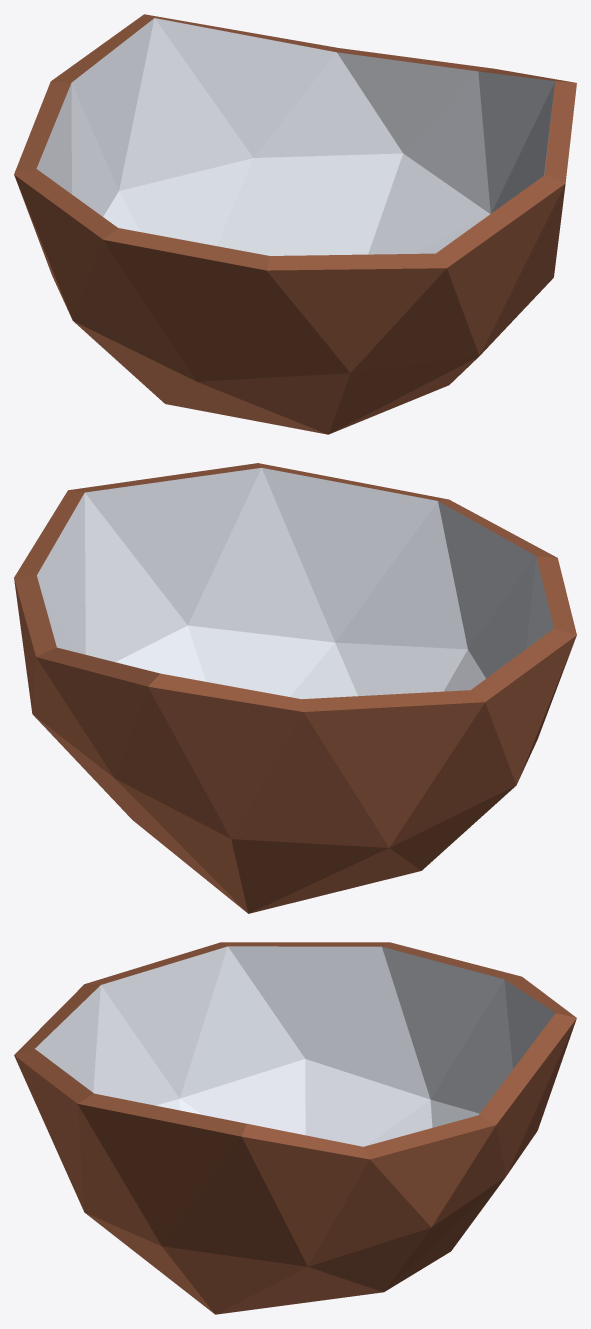
The model's file is Lumpy Brokonut.fbx.
3 views of the same model, one above another, from view 1: azimuth 30°, elevation 25°; view 2: azimuth 150°, elevation 25°; view 3: azimuth 270°, elevation 25° (orthographic). The views are drawn at different scales.
Visible parts, largest first — view 1: Lumpy Brokonut; view 2: Lumpy Brokonut; view 3: Lumpy Brokonut.
Part boxes in pixels (x1,y1,x2,y2): Lumpy Brokonut: (14, 14, 576, 434); Lumpy Brokonut: (14, 463, 576, 913); Lumpy Brokonut: (14, 942, 576, 1314).
Size of the model in its own units: 194 by 108 by 206.
